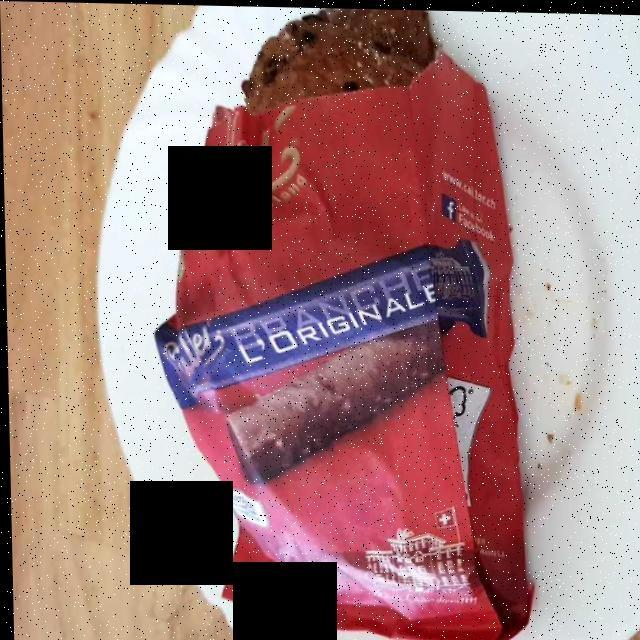croissant: (176, 47, 521, 616)
